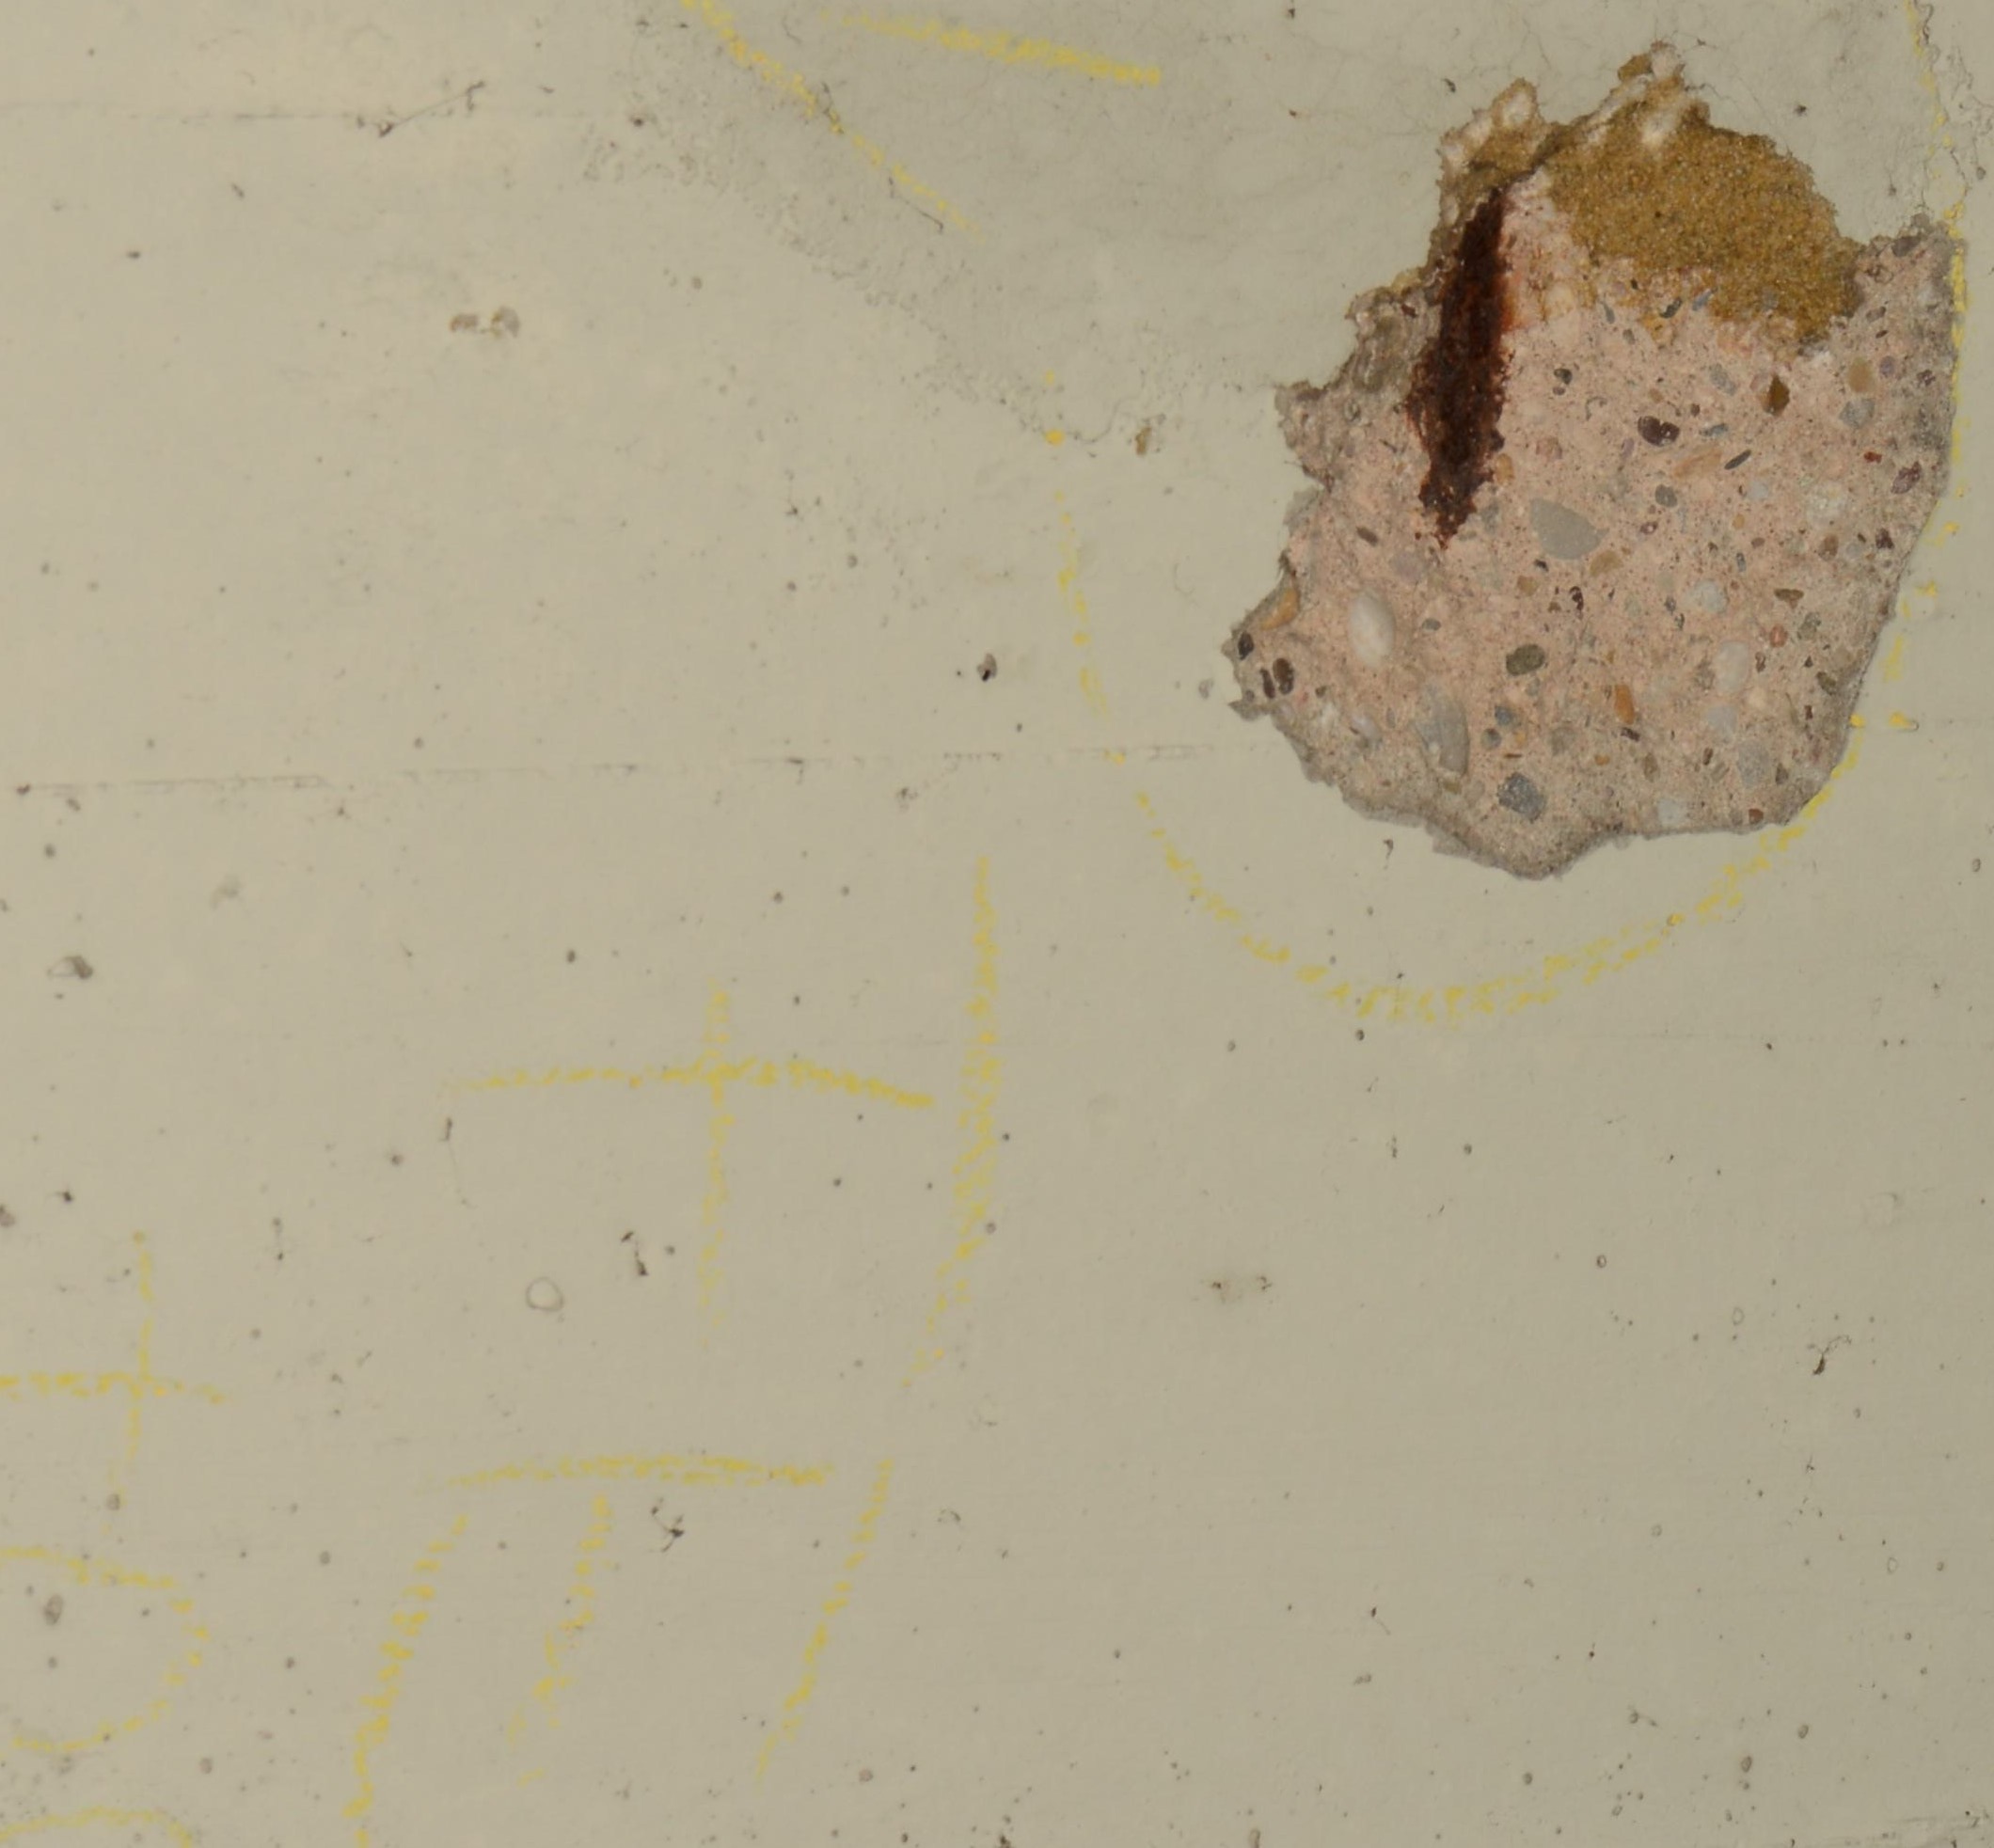Exposed reinforcement: (1403, 188, 1504, 549)
Spalling: (1218, 40, 1964, 884)
